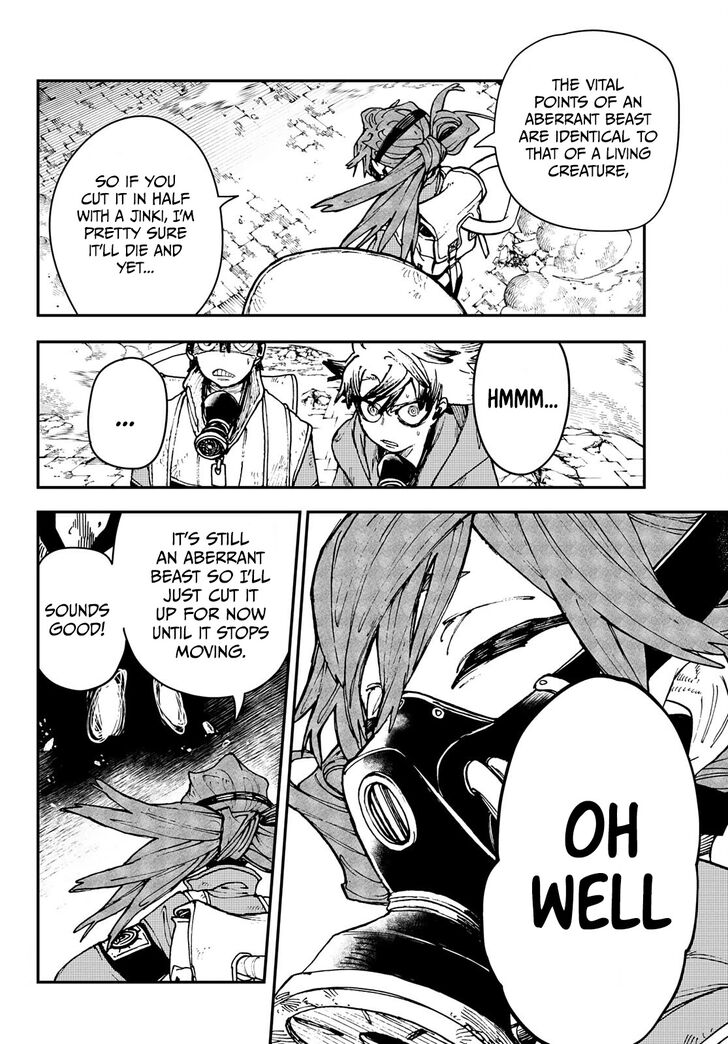bubble: (480, 677, 701, 1044), (475, 30, 680, 231), (112, 512, 300, 719), (48, 116, 238, 317), (37, 547, 127, 692), (473, 342, 570, 475), (87, 356, 168, 470)
